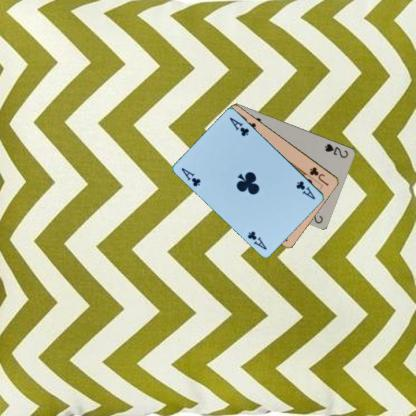2s: (322, 141, 350, 159)
Ac: (179, 165, 202, 188), (294, 178, 316, 200)
Jc: (307, 164, 330, 187)
